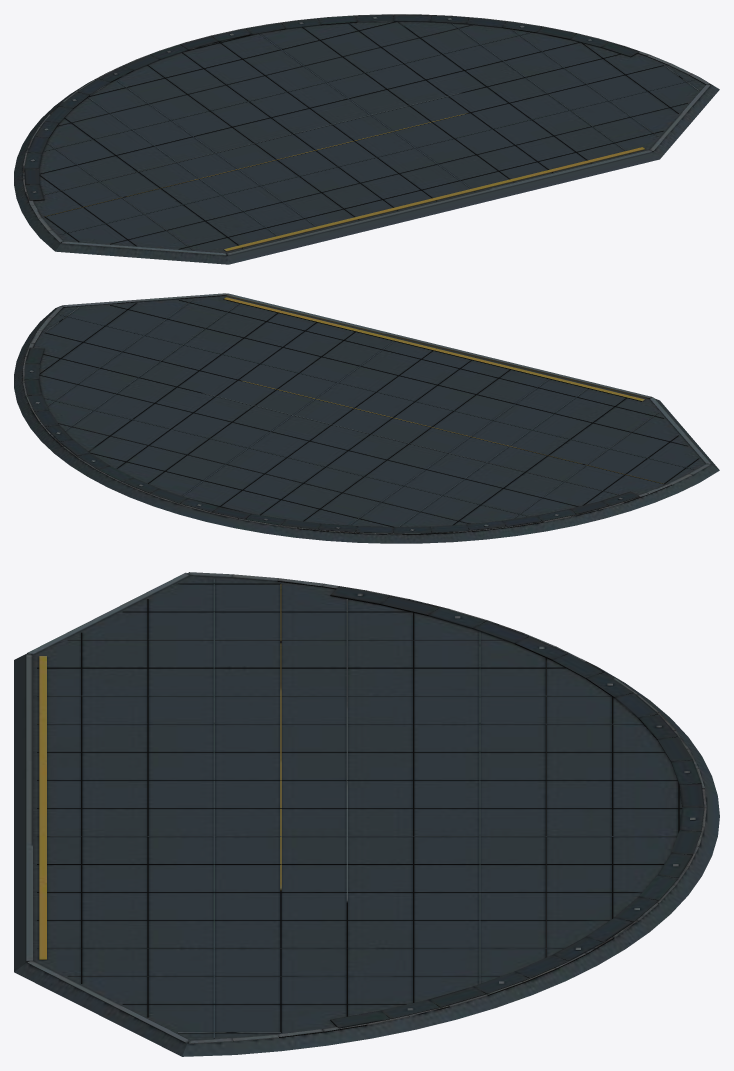
File: bank_island_v5.glb
3 renders of one model, top to bottom at view 1: azimuth 30°, elevation 25°; view 2: azimuth 150°, elevation 25°; view 3: azimuth 270°, elevation 25°, orthographic. The views are drawn at different scales.
Parts seen in each view (by area): view 1: body; view 2: body; view 3: body.
Part boxes in pixels (x1,y1,x2,y2): body: (14,14,719,264); body: (14,293,719,543); body: (14,572,719,1056).
Size of the model in its own units: 10.3 by 0.0911 by 6.38.
Materials: 1 (1 with a texture image).
